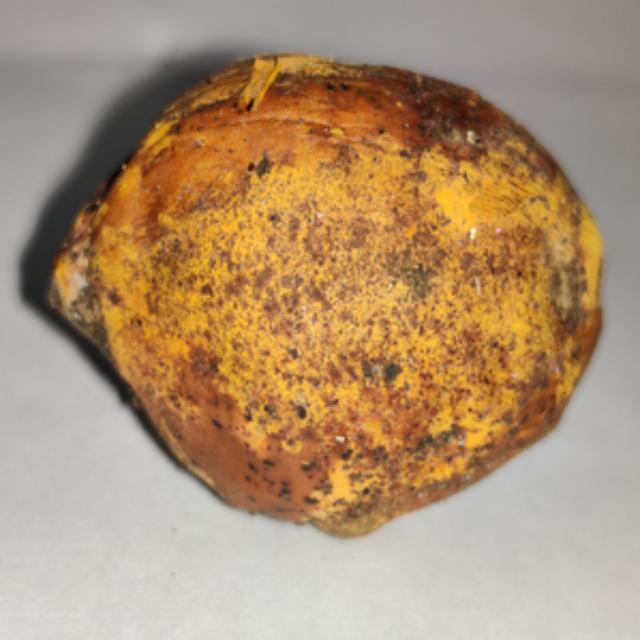damaged: (45, 54, 606, 542)
